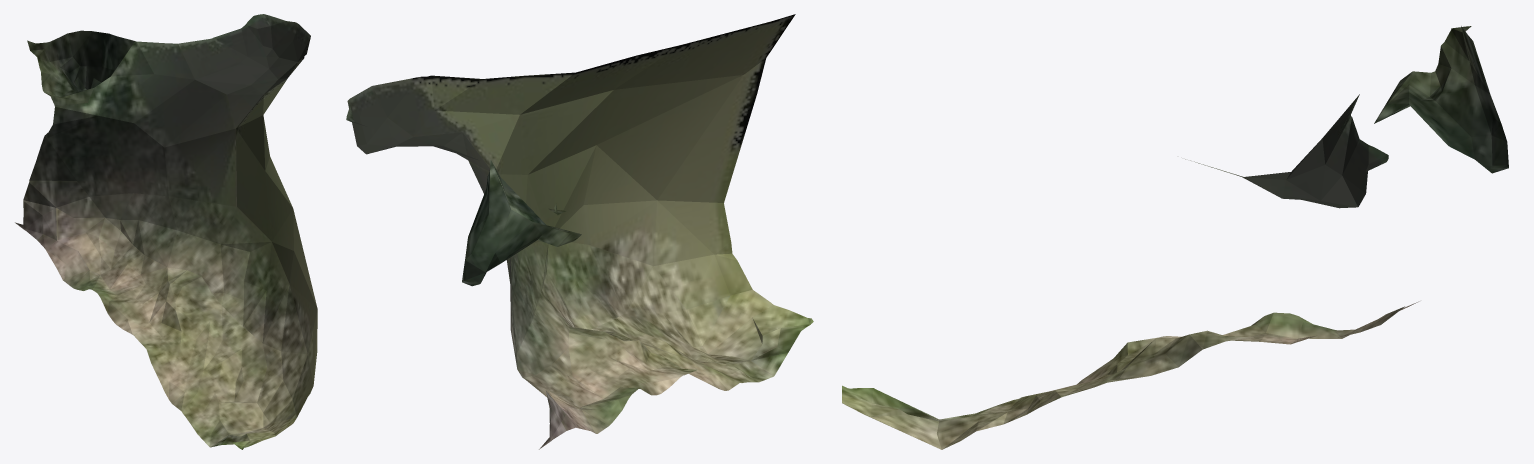
3 views of the same model, side by side, from view 1: azimuth 30°, elevation 25°; view 2: azimuth 150°, elevation 25°; view 3: azimuth 270°, elevation 25° (orthographic). The views are drawn at different scales.
Size of the model in its own units: 5.65 by 6.69 by 10.14.
2 materials, 2 textured.
